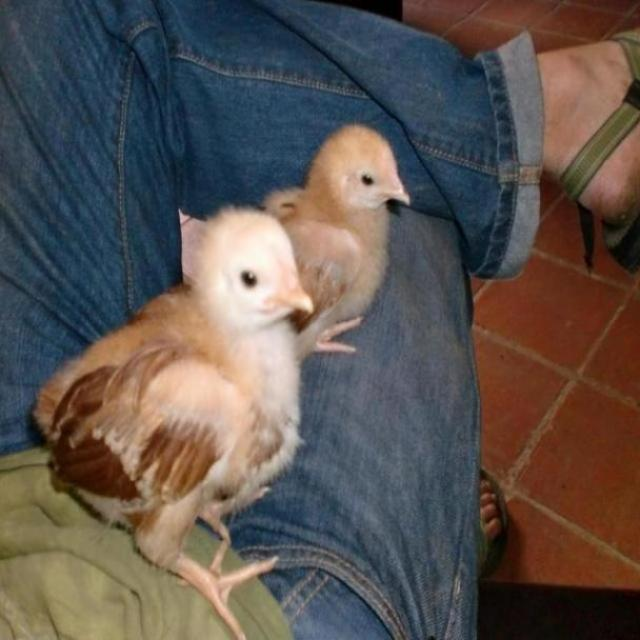Chicken: (237, 117, 418, 351)
